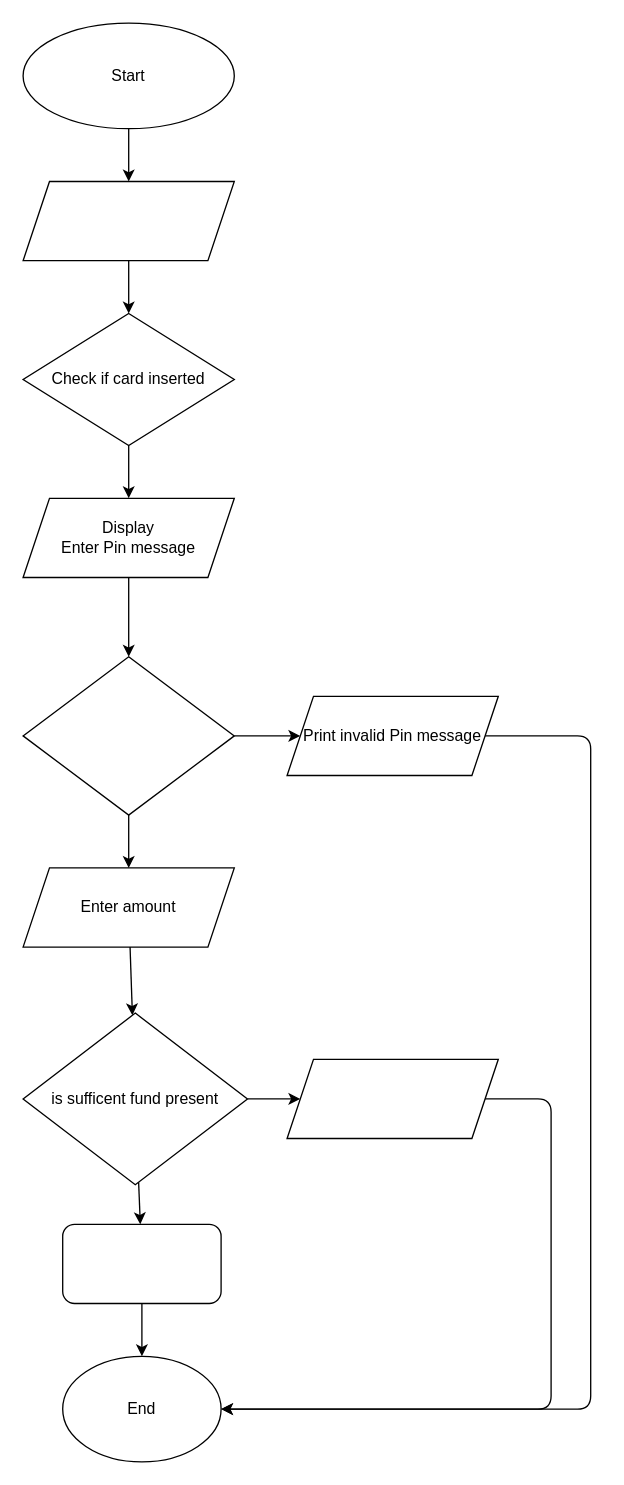
Some shapes in this 624 by 1485 pixel diagram are drawn without their labels. Each missing label, with the box of its shape:
Display insert card message: (22, 180, 234, 261)
dispust amount and adjust the balance: (61, 1223, 221, 1304)
is pin correct: (22, 655, 234, 815)
Print in sufficient fund: (286, 1058, 498, 1138)
